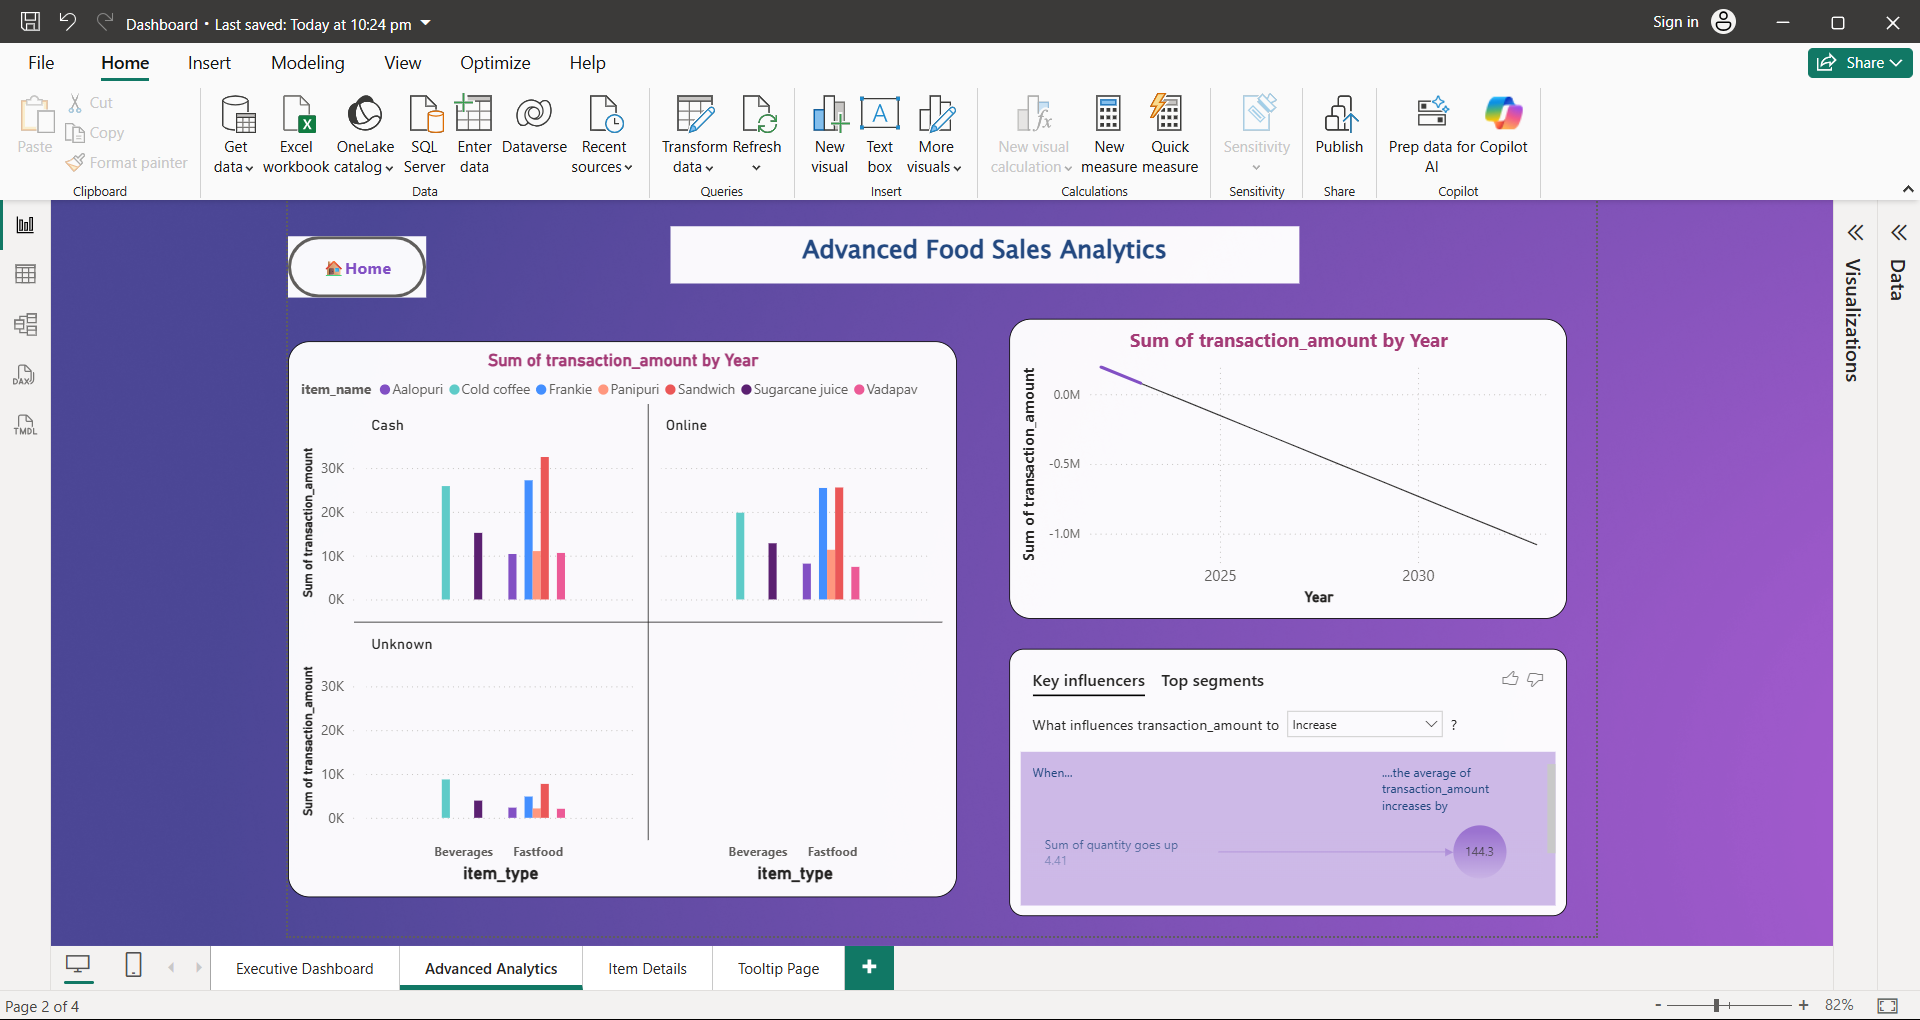

The dashboard page shown, as its layout file describes it:
{"tool":"powerbi","page":{"name":"Advanced Analytics","canvas":[1280,720],"ordinal":1},"visuals":[{"type":"textbox","box":[373.8,26.2,615,56.2],"z":0},{"type":"clusteredColumnChart","title":"Sum of transaction_amount by Year","fields":{"Category":["cleaned_foodorders.item_type"],"Series":["cleaned_foodorders.item_name"],"Y":["Sum(cleaned_foodorders.transaction_amount)"],"Rows":["cleaned_foodorders.transaction_type"]},"box":[0,138.2,654.2,544.2],"z":1000},{"type":"lineChart","fields":{"Category":["cleaned_foodorders.date.Variation.Date Hierarchy.Year","cleaned_foodorders.date.Variation.Date Hierarchy.Quarter","cleaned_foodorders.date.Variation.Date Hierarchy.Month","cleaned_foodorders.date.Variation.Date Hierarchy.Day"],"Y":["Sum(cleaned_foodorders.transaction_amount)"]},"box":[705.6,116.2,545.4,293.5],"z":2000},{"type":"actionButton","box":[0,35,135,60],"z":3000},{"type":"keyDriversVisual","fields":{"Target":["cleaned_foodorders.transaction_amount"],"ExplainBy":["cleaned_foodorders.time_of_sale","Sum(cleaned_foodorders.quantity)","cleaned_foodorders.item_type","cleaned_foodorders.transaction_type"]},"box":[705.6,439,545.4,261.7],"z":4000}]}

Visuals, with their boxes on the page's 1280x720 design canvas (x1, y1, x2, y2). These are canvas units, not pixel positions in the 1920x1020 screenshot, which may show the page scaled, cropped or inside an application window:
textbox: 374,26,989,82
"Sum of transaction_amount by Year" clusteredColumnChart: 0,138,654,682
lineChart - cleaned_foodorders.date.Variation.Date Hierarchy.Year x cleaned_foodorders.date.Variation.Date Hierarchy.Quarter: 706,116,1251,410
actionButton: 0,35,135,95
keyDriversVisual - cleaned_foodorders.transaction_amount x cleaned_foodorders.time_of_sale: 706,439,1251,701
